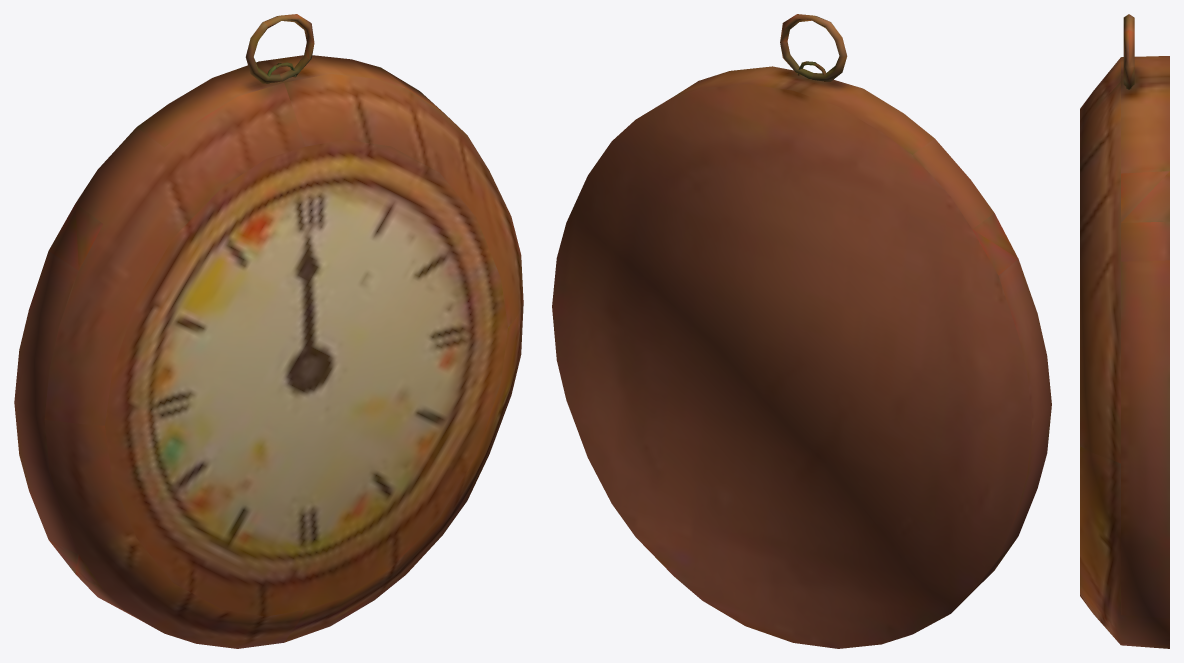
File: wyn_furn_wall_clock.glb
The picture shows the model from 3 angles, left to right: view 1: azimuth 30°, elevation 25°; view 2: azimuth 150°, elevation 25°; view 3: azimuth 270°, elevation 25°; orthographic projection. The views are drawn at different scales.
Parts seen in each view (by area): view 1: tripo_node_39b57c71-4b8f-48f7-8a4f-96d5df27bad3; view 2: tripo_node_39b57c71-4b8f-48f7-8a4f-96d5df27bad3; view 3: tripo_node_39b57c71-4b8f-48f7-8a4f-96d5df27bad3.
Boxes of the visible parts, bbox=[...] form: tripo_node_39b57c71-4b8f-48f7-8a4f-96d5df27bad3: bbox=[14, 14, 523, 648]; tripo_node_39b57c71-4b8f-48f7-8a4f-96d5df27bad3: bbox=[552, 14, 1051, 648]; tripo_node_39b57c71-4b8f-48f7-8a4f-96d5df27bad3: bbox=[1080, 14, 1169, 648].
Size of the model in its own units: 0.4512 by 0.55 by 0.0741.
Materials: 1 (1 with a texture image).
